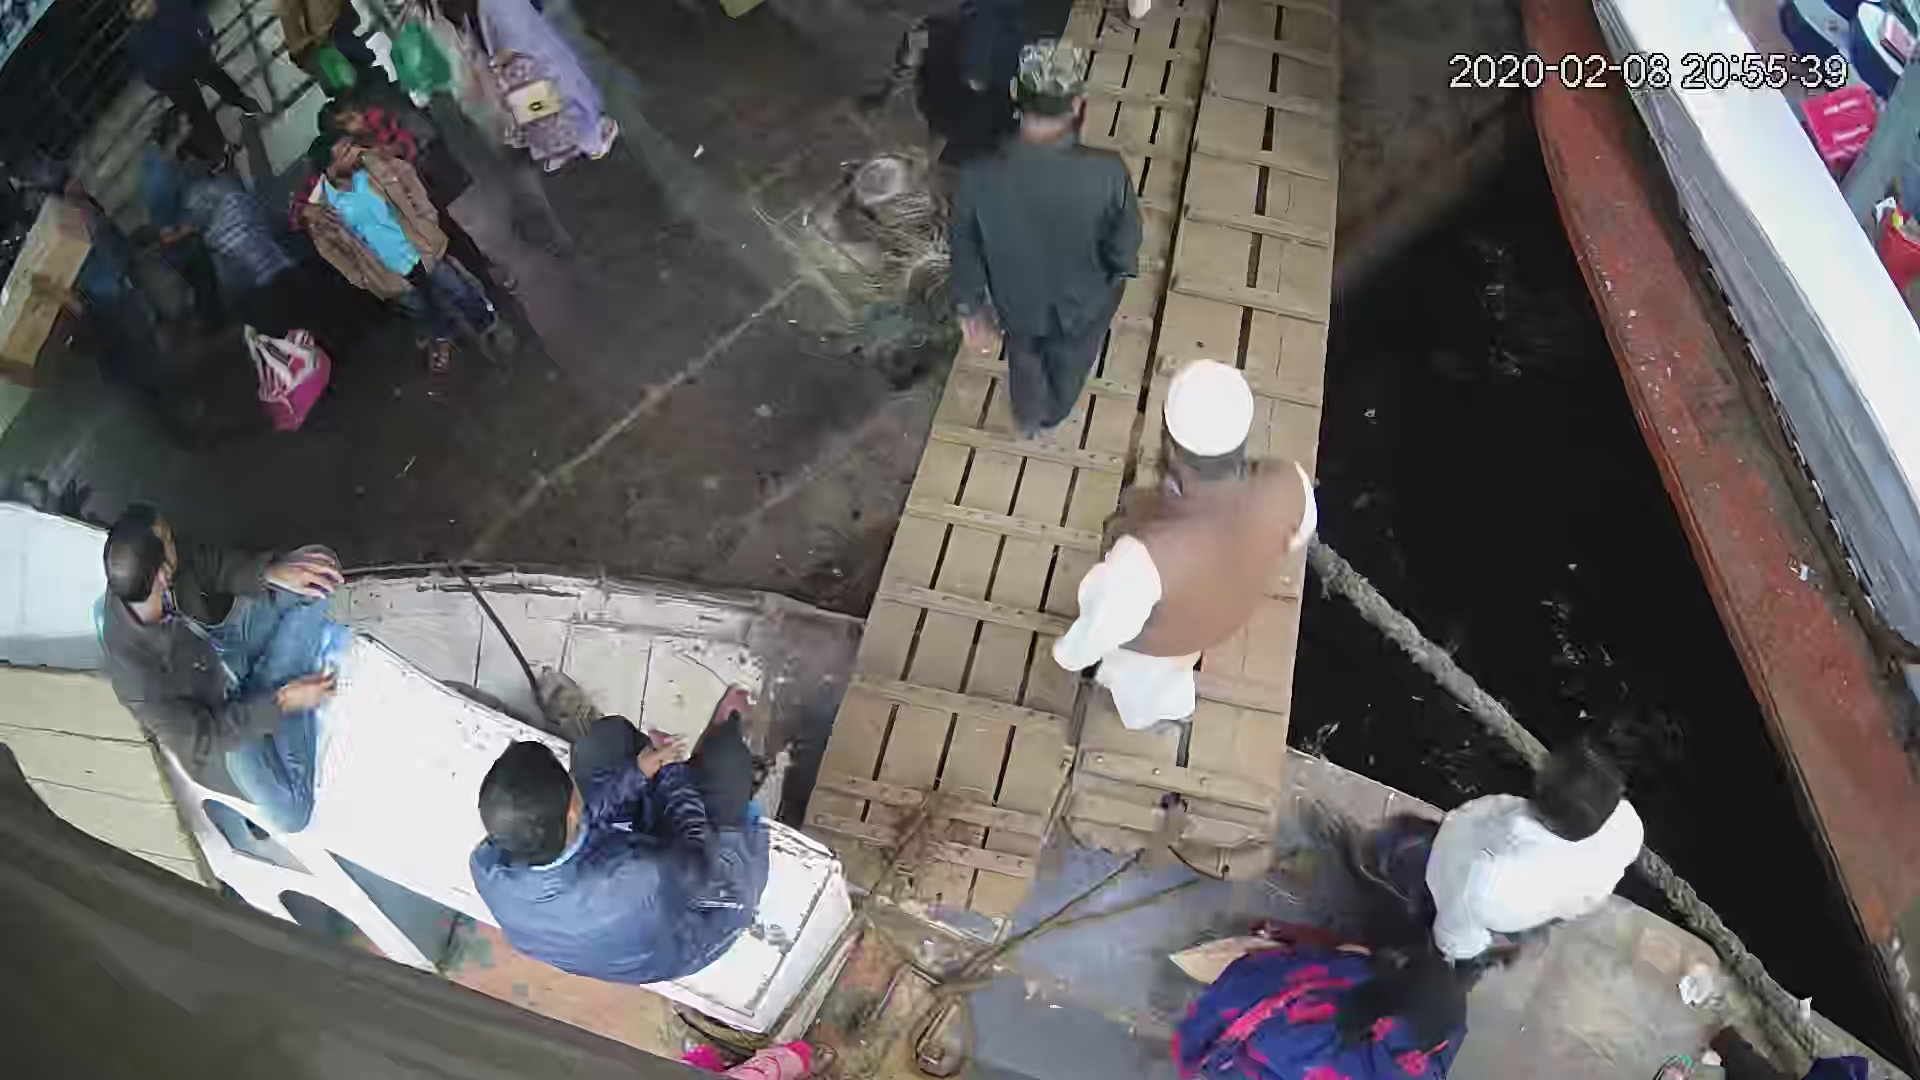person: (473, 676, 779, 986), (1081, 366, 1315, 738), (96, 497, 340, 838), (951, 36, 1144, 438), (1314, 739, 1644, 966), (308, 127, 517, 376), (1168, 915, 1486, 1078), (475, 1, 621, 182), (183, 180, 334, 355), (117, 1, 270, 140)
